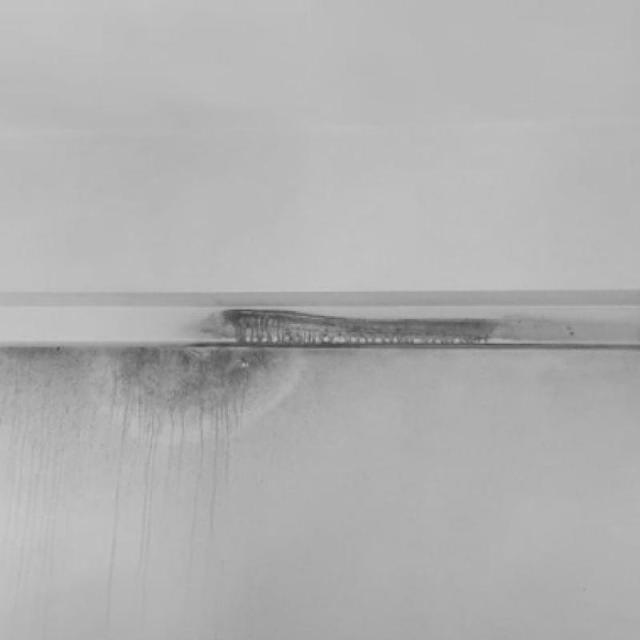stain marks: (0, 298, 617, 438)
